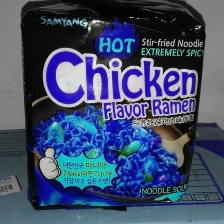snack: (13, 0, 212, 216)
